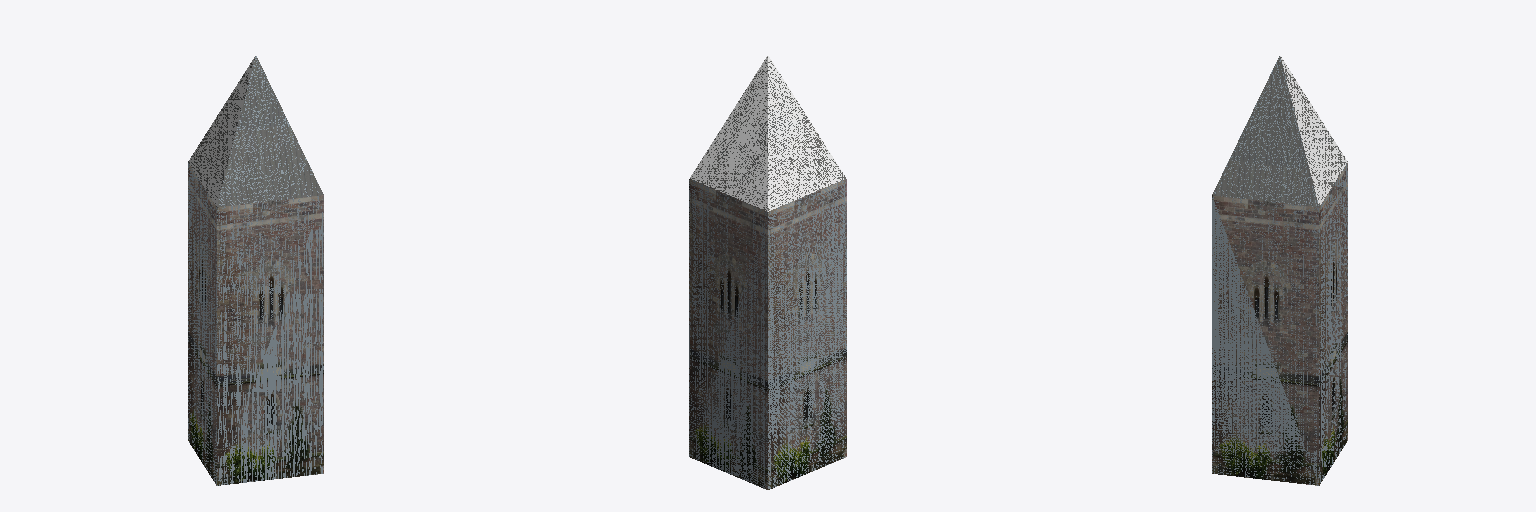
3 renders of one model, left to right at view 1: azimuth 30°, elevation 25°; view 2: azimuth 150°, elevation 25°; view 3: azimuth 270°, elevation 25°, orthographic.
Parts seen in each view (by area): view 1: Mesh1 Group1 Model; view 2: Mesh1 Group1 Model; view 3: Mesh1 Group1 Model.
Boxes of the visible parts, box(x1,y1,x2,y2) form: Mesh1 Group1 Model: box(188, 56, 323, 485); Mesh1 Group1 Model: box(689, 56, 846, 489); Mesh1 Group1 Model: box(1212, 56, 1347, 485).
Size of the model in its own units: 7.8 by 25.49 by 7.8.
Materials: 4 (2 with a texture image).